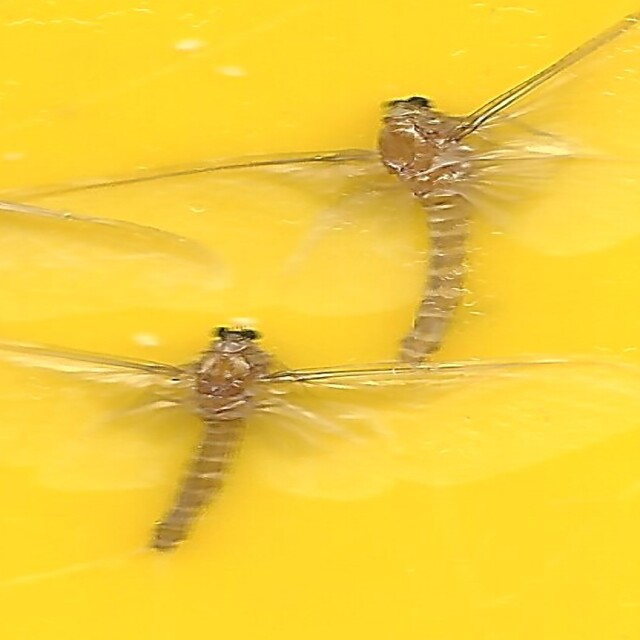Ephemeroptera: (374, 89, 487, 372), (153, 323, 272, 551)
